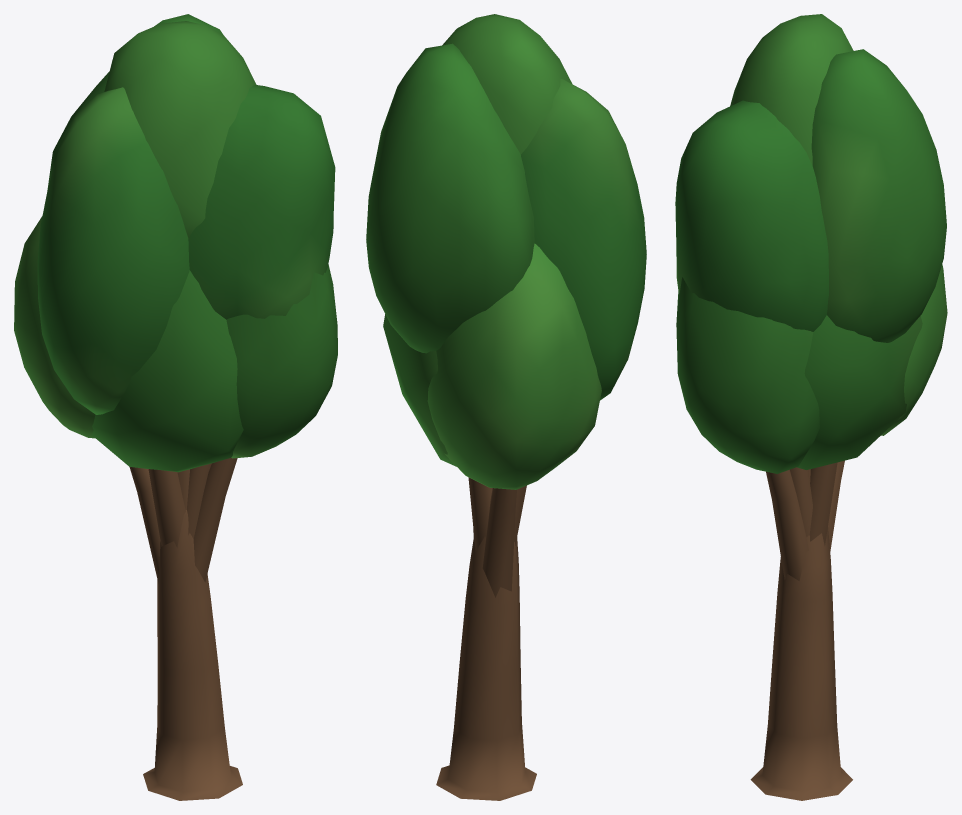
Rendered from decor_feuillu_ete_2.glb.
3 renders of one model, left to right at view 1: azimuth 30°, elevation 25°; view 2: azimuth 150°, elevation 25°; view 3: azimuth 270°, elevation 25°, orthographic.
Parts seen in each view (by area): view 1: feuillage, tronc; view 2: feuillage, tronc; view 3: feuillage, tronc.
Boxes of the visible parts, <box> form: feuillage: <box>14,14,337,472</box>; tronc: <box>129,457,242,800</box>; feuillage: <box>366,14,646,489</box>; tronc: <box>436,477,536,800</box>; feuillage: <box>675,14,947,473</box>; tronc: <box>750,460,852,800</box>.
Size of the model in its own units: 0.2981 by 0.8387 by 0.2749.
